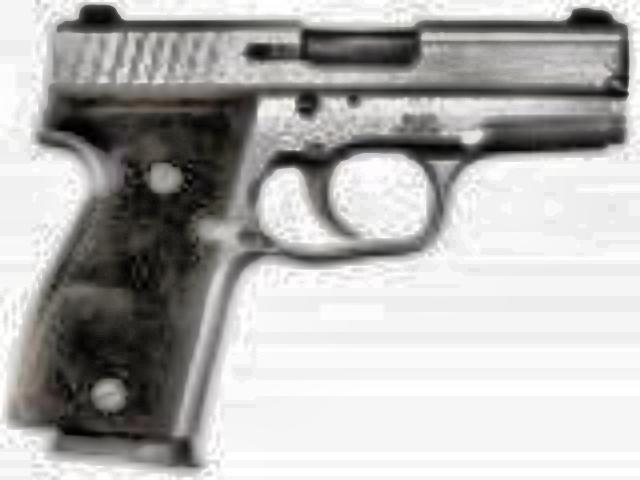pistol: (12, 4, 616, 468)
